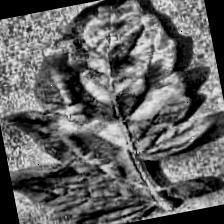leaf mold: (0, 0, 221, 185)
